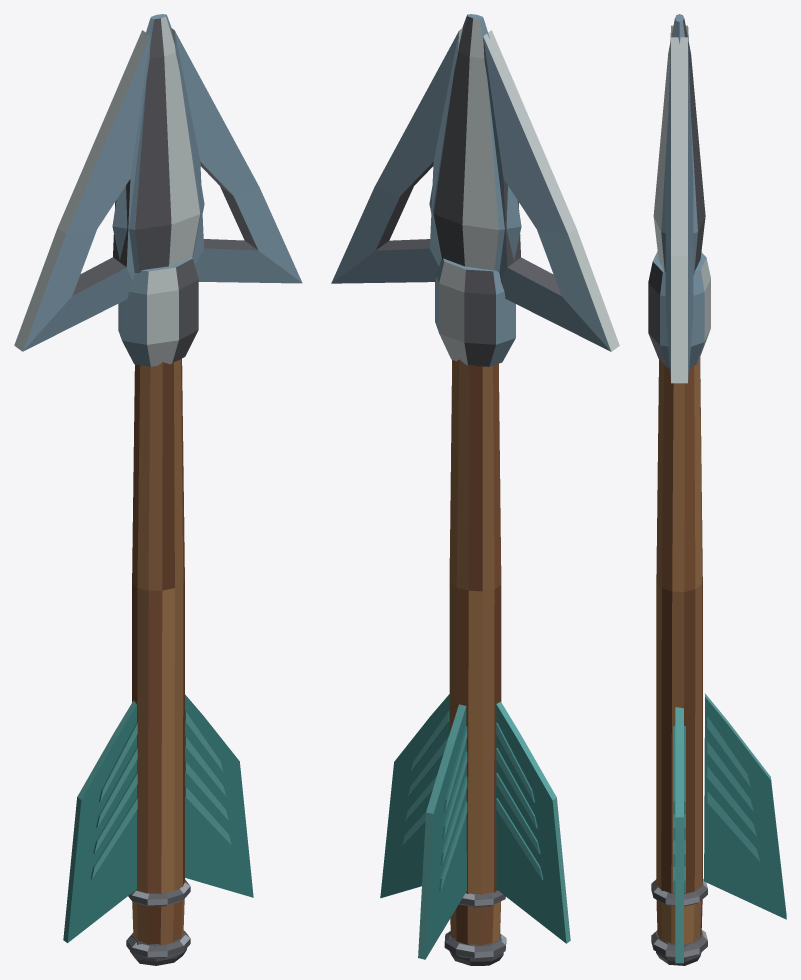
Rendered from wsc-gear-008-broadhead-bolt.glb.
The picture shows the model from 3 angles, left to right: view 1: azimuth 30°, elevation 25°; view 2: azimuth 150°, elevation 25°; view 3: azimuth 270°, elevation 25°; orthographic projection.
Parts seen in each view (by area): view 1: WSC-GEAR-008 | Broadhead display proxy; view 2: WSC-GEAR-008 | Broadhead display proxy; view 3: WSC-GEAR-008 | Broadhead display proxy.
Part boxes in pixels (x1,y1,x2,y2): WSC-GEAR-008 | Broadhead display proxy: [14, 14, 302, 965]; WSC-GEAR-008 | Broadhead display proxy: [331, 14, 619, 965]; WSC-GEAR-008 | Broadhead display proxy: [648, 14, 786, 965].
Size of the model in its own units: 0.304 by 0.975 by 0.1306.
